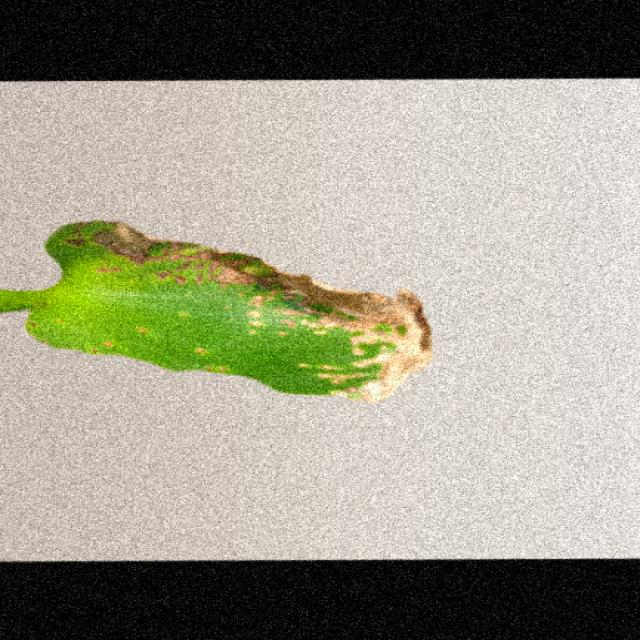daun berpenyakit bercak: (0, 221, 431, 402)
